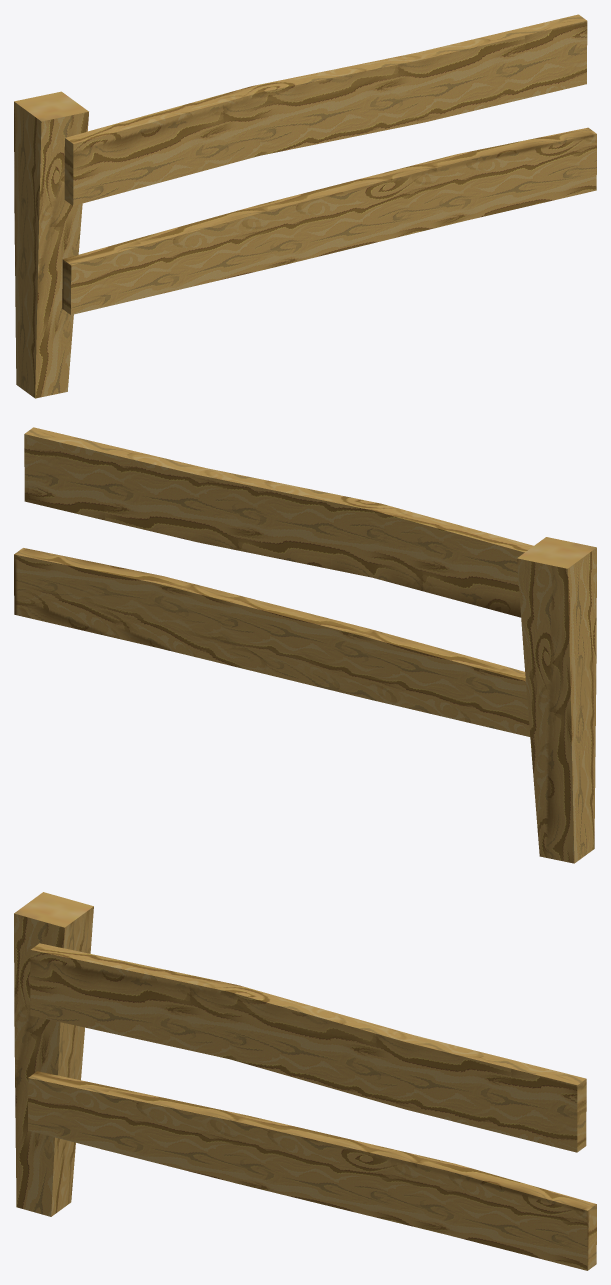
The model's file is Fence_01.FBX.
The picture shows the model from 3 angles, top to bottom: view 1: azimuth 30°, elevation 25°; view 2: azimuth 150°, elevation 25°; view 3: azimuth 330°, elevation 25°; orthographic projection. The views are drawn at different scales.
Visible parts, largest first — view 1: Fence_01; view 2: Fence_01; view 3: Fence_01.
Boxes of the visible parts, x1,y1,x2,y2 form: Fence_01: (14,14,596,398); Fence_01: (14,427,596,863); Fence_01: (14,892,596,1270).
Size of the model in its own units: 206 by 100 by 23.15.
